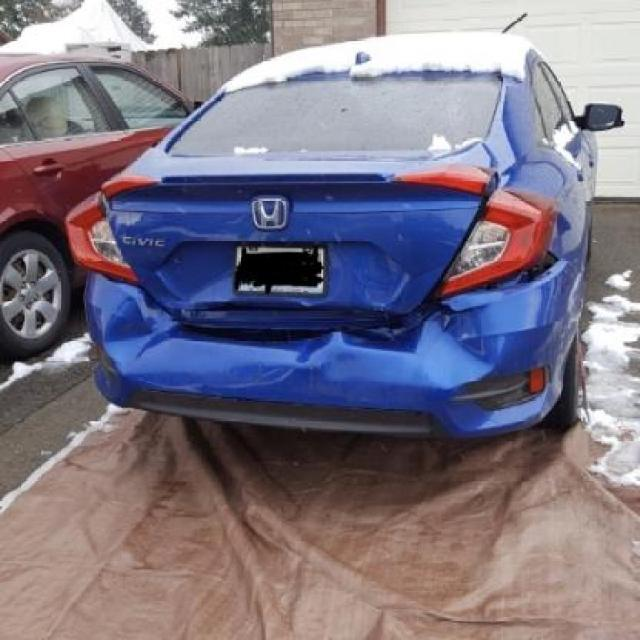minor: (103, 240, 515, 389)
